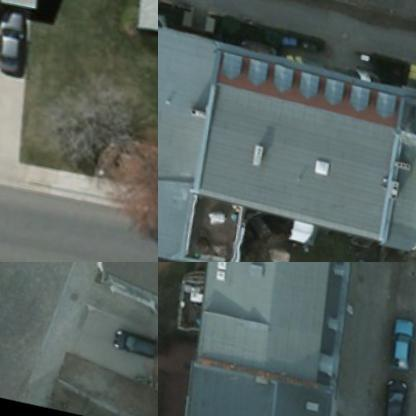car: (374, 313, 415, 376), (0, 5, 32, 76), (103, 330, 155, 362), (372, 380, 406, 415)
